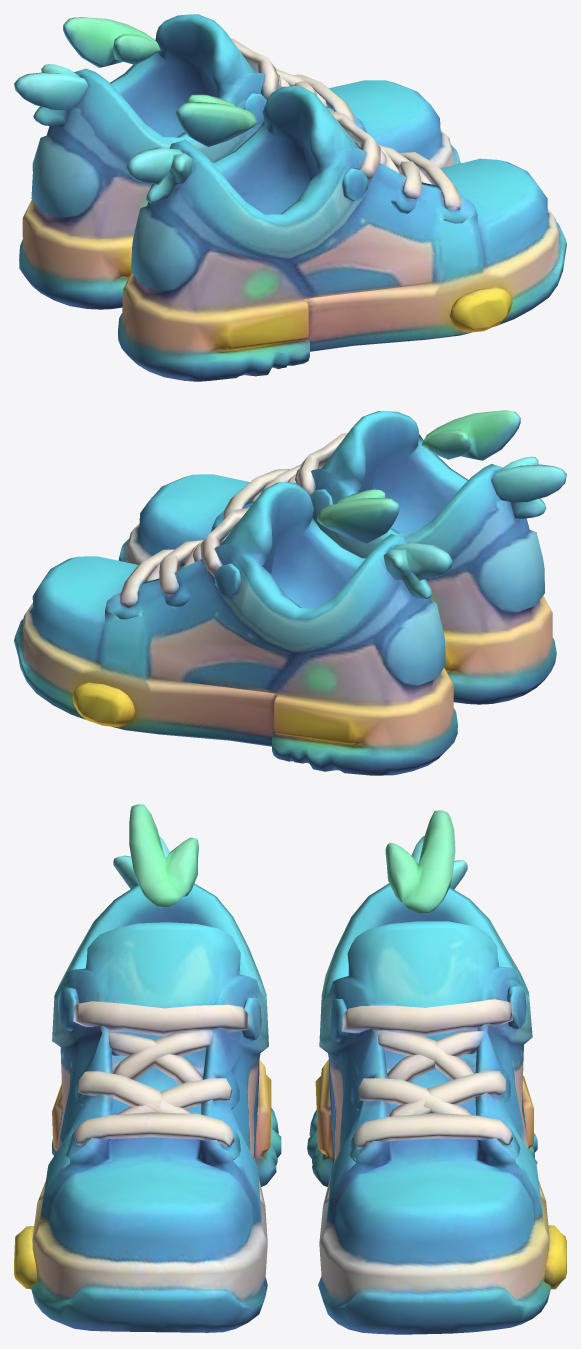
File: sneakers.glb
3 views of the same model, one above another, from view 1: azimuth 30°, elevation 25°; view 2: azimuth 150°, elevation 25°; view 3: azimuth 270°, elevation 25° (orthographic). The views are drawn at different scales.
Visible parts, largest first — view 1: tripo_node_30509a0f-38cd-4fed-bc3d-d31f9b946f43; view 2: tripo_node_30509a0f-38cd-4fed-bc3d-d31f9b946f43; view 3: tripo_node_30509a0f-38cd-4fed-bc3d-d31f9b946f43.
Part boxes in pixels (x1=…): tripo_node_30509a0f-38cd-4fed-bc3d-d31f9b946f43: x1=14, y1=14, x2=566, y2=381; tripo_node_30509a0f-38cd-4fed-bc3d-d31f9b946f43: x1=14, y1=410, x2=566, y2=775; tripo_node_30509a0f-38cd-4fed-bc3d-d31f9b946f43: x1=14, y1=804, x2=566, y2=1334.
Bounding box in the file's own units: 0.998 × 0.5801 × 0.8808.
Materials: 1 (1 with a texture image).
